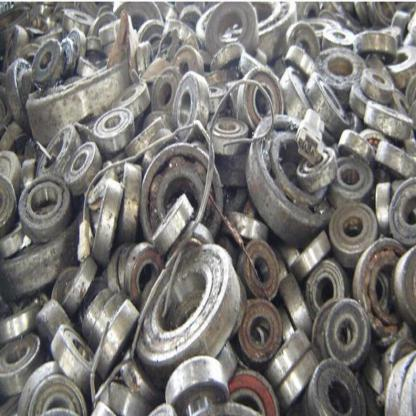FOD: (132, 238, 240, 381), (16, 170, 72, 245), (325, 295, 373, 371), (327, 199, 379, 267), (236, 297, 285, 369), (236, 63, 285, 133), (90, 174, 123, 271), (148, 190, 196, 254), (170, 70, 212, 142), (48, 322, 95, 384), (0, 334, 45, 396), (240, 235, 282, 300), (90, 107, 136, 153), (29, 35, 63, 90)
